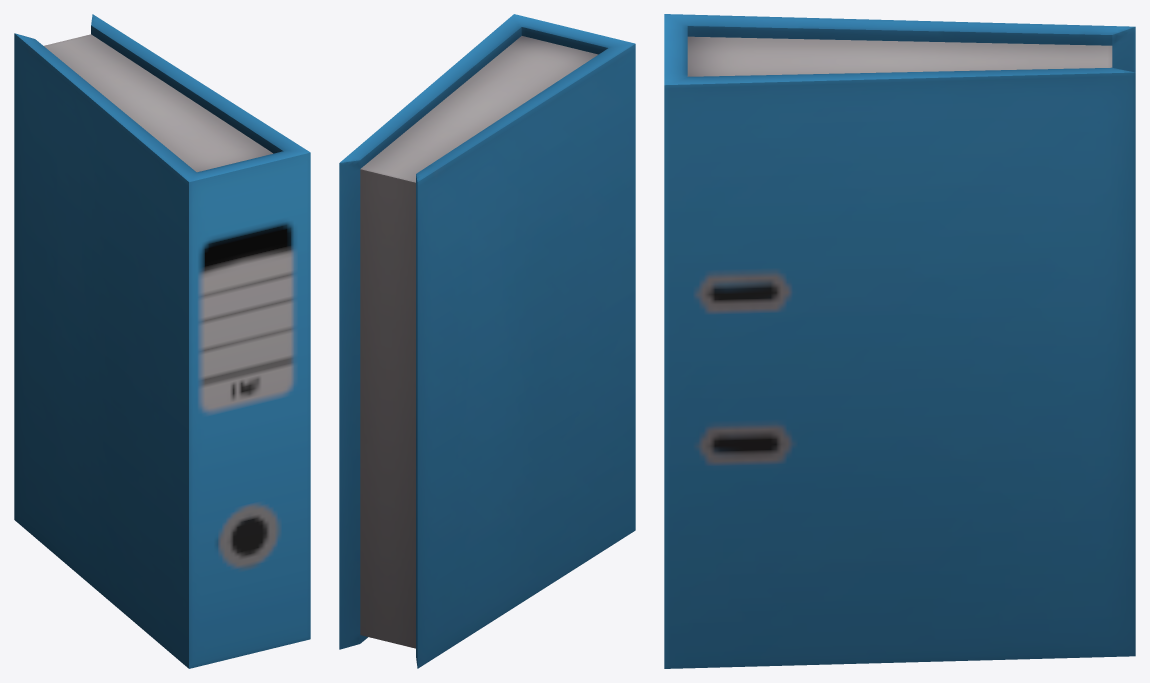
The model's file is SM_Office_Binder.FBX.
The picture shows the model from 3 angles, left to right: view 1: azimuth 30°, elevation 25°; view 2: azimuth 150°, elevation 25°; view 3: azimuth 270°, elevation 25°; orthographic projection. The views are drawn at different scales.
Parts seen in each view (by area): view 1: SM_Office_Binder; view 2: SM_Office_Binder; view 3: SM_Office_Binder.
Boxes of the visible parts, <box> form: SM_Office_Binder: <box>14,14,310,668</box>; SM_Office_Binder: <box>339,14,635,668</box>; SM_Office_Binder: <box>664,14,1135,668</box>.
Bounding box in the file's own units: 6.65 × 18.59 × 25.41.
